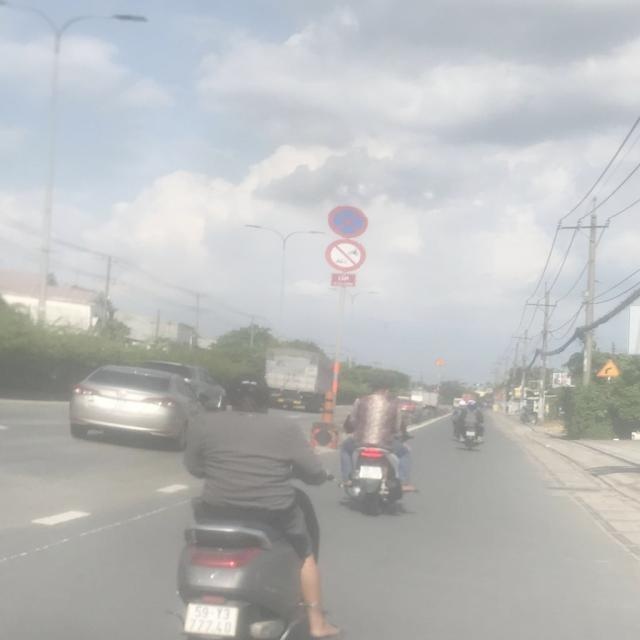cam_dung_xe_va_do_xe: (328, 204, 370, 238)
cam_xe_2_banh_va_xe_3_banh_co_dong_co: (326, 239, 366, 273)
cho_ngoat_nguy_hiem_ben_phai: (596, 359, 620, 377)
